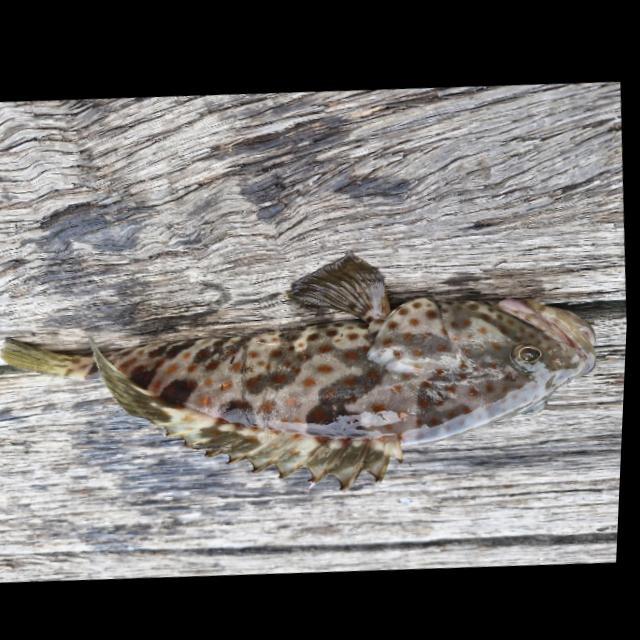Groupers: (0, 222, 622, 525)
